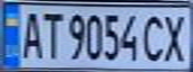0: (84, 10, 106, 61)
4: (118, 10, 142, 62)
5: (103, 10, 124, 61)
9: (63, 9, 87, 61)
A: (15, 8, 45, 60)
C: (139, 11, 169, 62)
T: (39, 8, 63, 60)
X: (160, 11, 193, 63)
